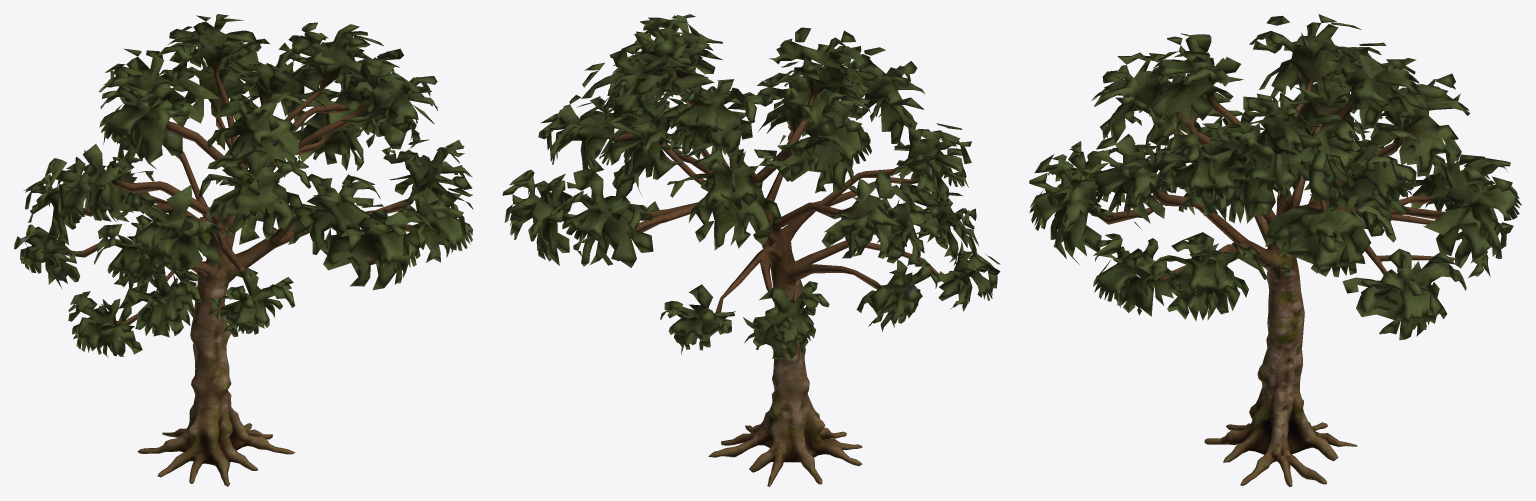
File: jungle_tree.glb
3 views of the same model, side by side, from view 1: azimuth 30°, elevation 25°; view 2: azimuth 150°, elevation 25°; view 3: azimuth 270°, elevation 25° (orthographic). The views are drawn at different scales.
Visible parts, largest first — view 1: tripo_node_58eb63cf-1805-4d81-b7c7-e49c26c908b9; view 2: tripo_node_58eb63cf-1805-4d81-b7c7-e49c26c908b9; view 3: tripo_node_58eb63cf-1805-4d81-b7c7-e49c26c908b9.
Part boxes in pixels (x1,y1,x2,y2): tripo_node_58eb63cf-1805-4d81-b7c7-e49c26c908b9: (14,14,473,486); tripo_node_58eb63cf-1805-4d81-b7c7-e49c26c908b9: (502,14,1000,486); tripo_node_58eb63cf-1805-4d81-b7c7-e49c26c908b9: (1029,14,1521,486).
Size of the model in its own units: 0.998 by 0.9512 by 0.998.
Materials: 1 (1 with a texture image).
